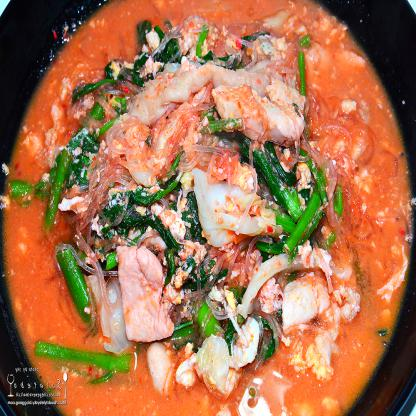Suki: (32, 13, 400, 402)
